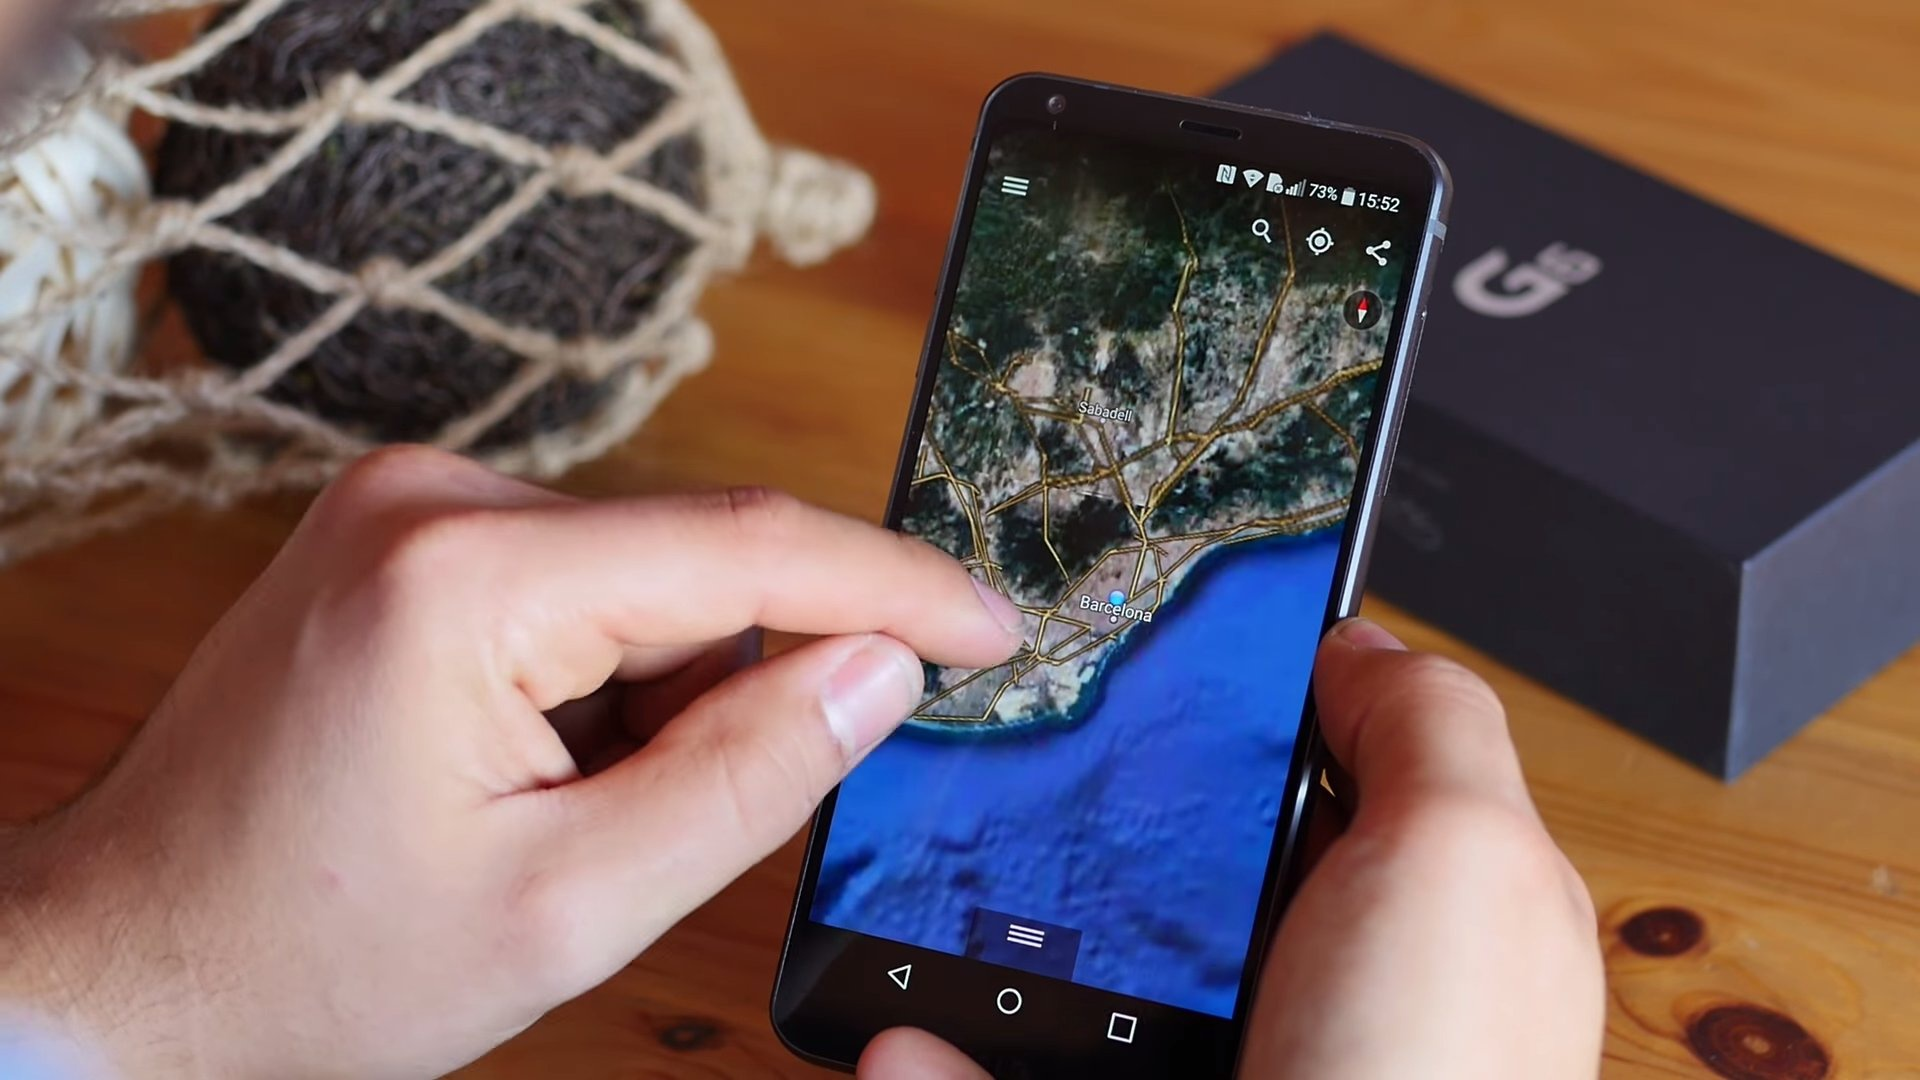smartphone: (767, 70, 1455, 1080)
